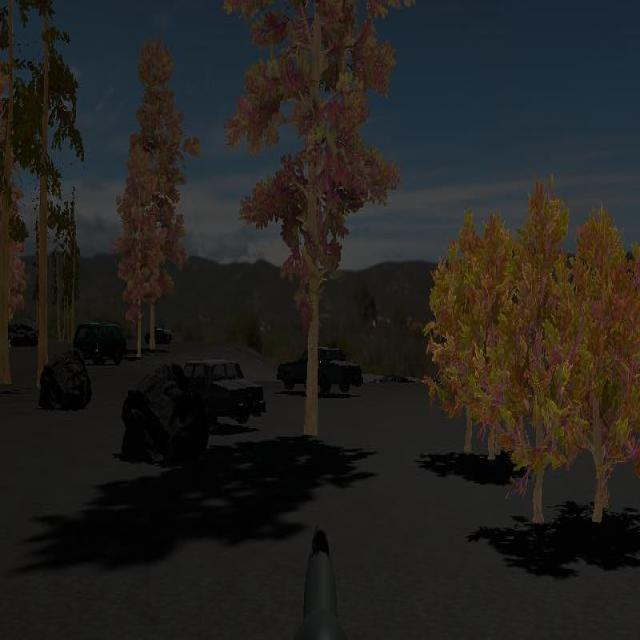car: (182, 356, 266, 424), (276, 344, 363, 394)
